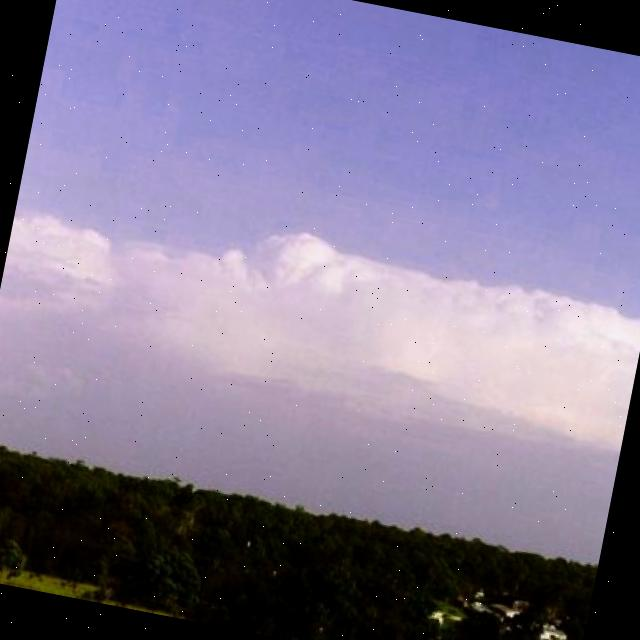Sc: (1, 172, 640, 499)
